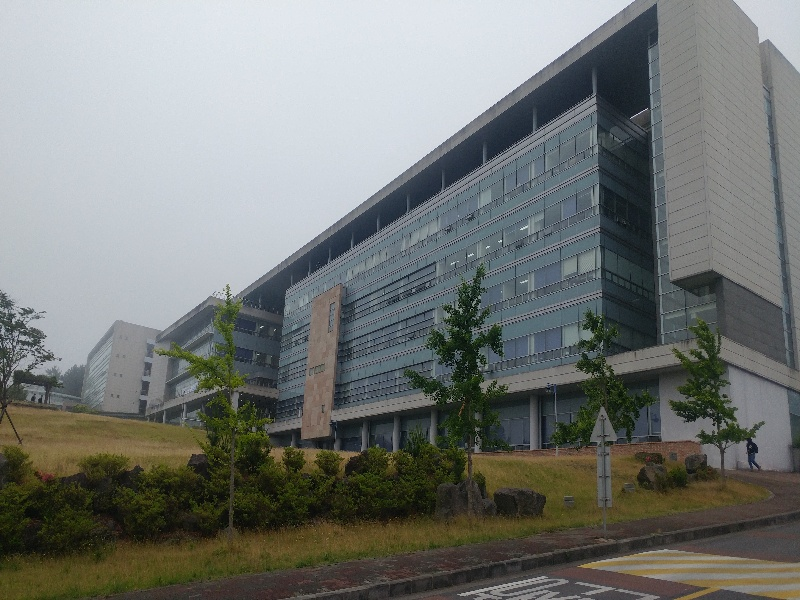College of Marine Science: (84, 323, 160, 414)
Engineering College Building 4: (176, 30, 798, 440), (290, 89, 781, 431)
